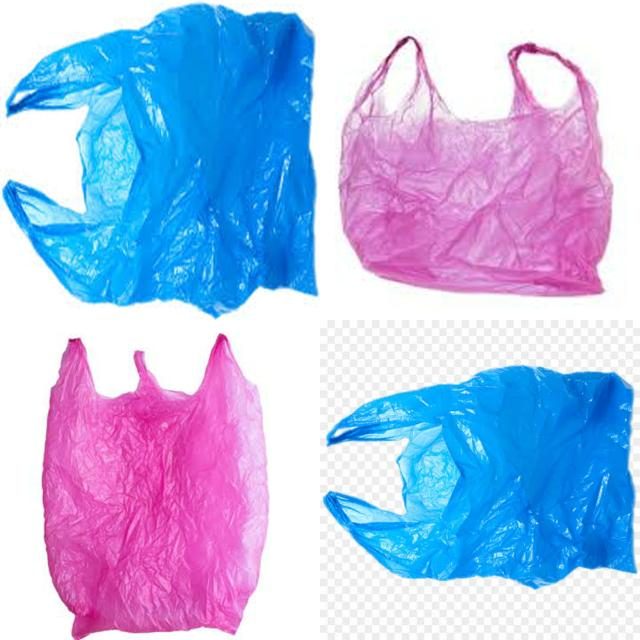Single-layer Plastic: (4, 4, 316, 316), (340, 36, 612, 295), (42, 335, 268, 640), (325, 366, 635, 588)
